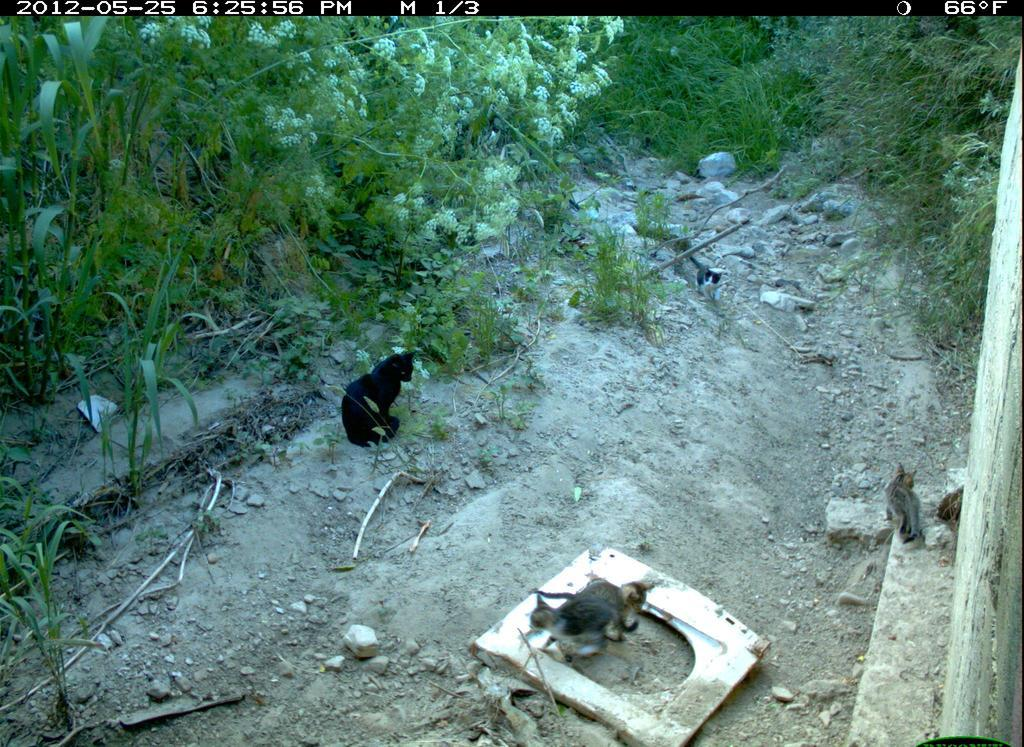cat: (521, 569, 666, 664), (332, 340, 430, 460), (530, 571, 662, 634), (876, 460, 943, 553), (684, 246, 752, 319)
